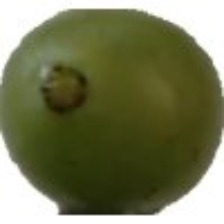grapes: (26, 0, 205, 200)
